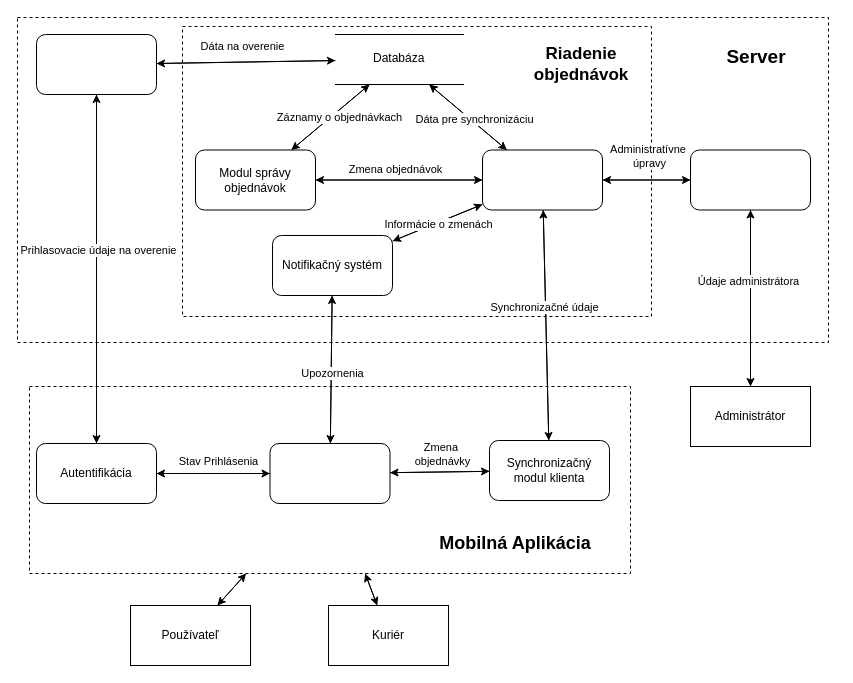
Image size: 853x683. Some labels were removed from this diagram. The shapes that lost their labels are listed below. From the top down, each one's box as (x1, y1, x2, y2) in pixels, then its label:
(36, 34, 156, 94): Autorizácia
(482, 149, 602, 210): Synchronizačný modul servera
(690, 149, 810, 210): Administrácia
(269, 442, 390, 504): Modul objednávok
